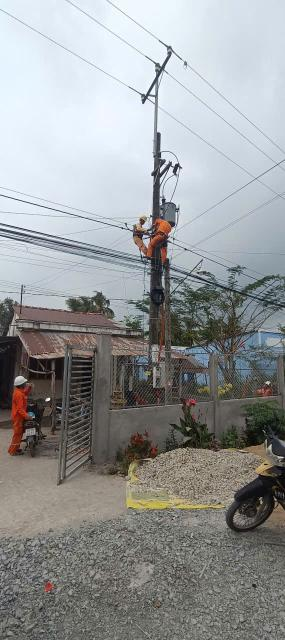gloves: (143, 230, 150, 236)
harness: (155, 229, 169, 239), (130, 230, 143, 239)
helmet: (12, 374, 32, 388), (138, 213, 148, 222), (166, 219, 173, 227)
shoes: (15, 447, 25, 454), (11, 451, 24, 456)
